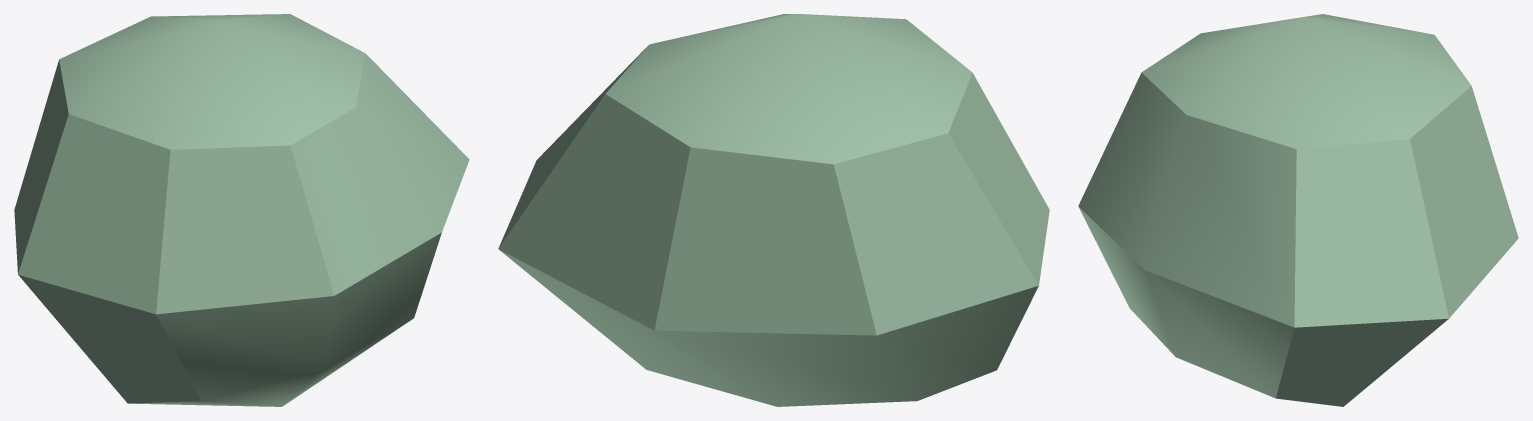
File: BushA.fbx
3 views of the same model, side by side, from view 1: azimuth 30°, elevation 25°; view 2: azimuth 150°, elevation 25°; view 3: azimuth 270°, elevation 25° (orthographic). The views are drawn at different scales.
Visible parts, largest first — view 1: Tree_New; view 2: Tree_New; view 3: Tree_New.
Part boxes in pixels (<box>): Tree_New: <box>14,14,469,406</box>; Tree_New: <box>498,14,1049,406</box>; Tree_New: <box>1078,14,1518,406</box>.
Size of the model in its own units: 120 by 88.94 by 103.
